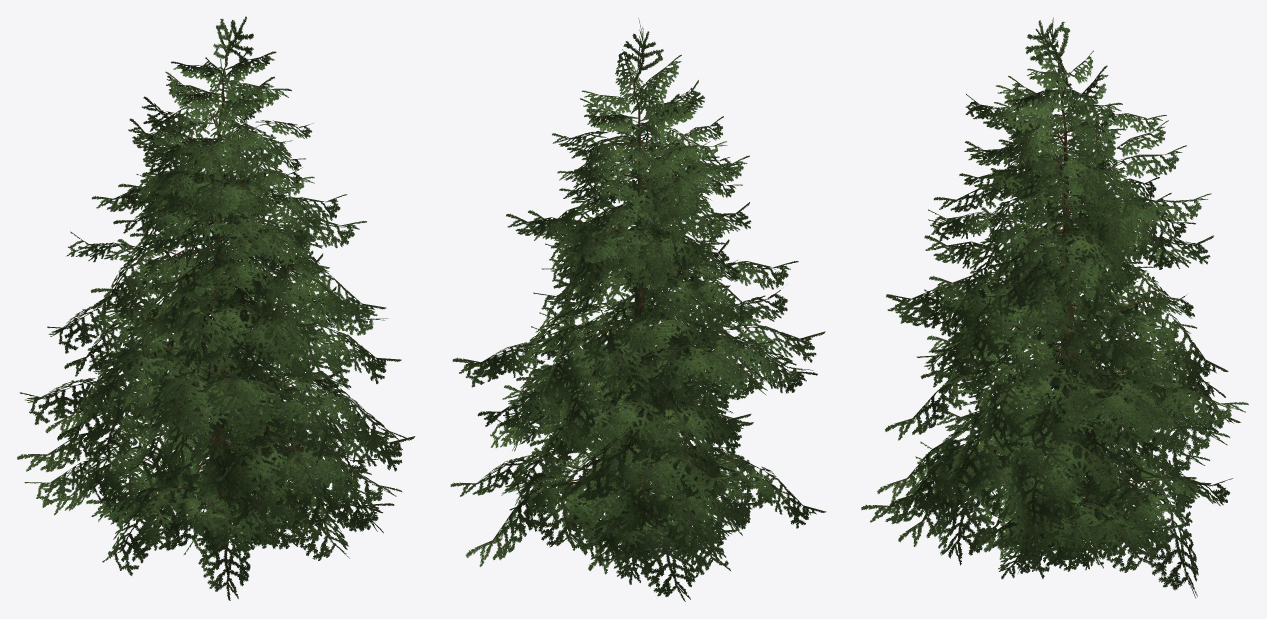
Rendered from fir_christmas_tree_2_lod0.gltf.
3 renders of one model, left to right at view 1: azimuth 30°, elevation 25°; view 2: azimuth 150°, elevation 25°; view 3: azimuth 270°, elevation 25°, orthographic. The views are drawn at different scales.
Parts seen in each view (by area): view 1: Christmas tree_2_LOD0_Brunches_Mat_0, Christmas tree_2_LOD0_Bark_Mat_0; view 2: Christmas tree_2_LOD0_Brunches_Mat_0, Christmas tree_2_LOD0_Bark_Mat_0; view 3: Christmas tree_2_LOD0_Brunches_Mat_0, Christmas tree_2_LOD0_Bark_Mat_0.
Boxes of the visible parts, x1=… form: Christmas tree_2_LOD0_Brunches_Mat_0: x1=17, y1=16, x2=415, y2=600; Christmas tree_2_LOD0_Bark_Mat_0: x1=114, y1=66, x2=318, y2=548; Christmas tree_2_LOD0_Brunches_Mat_0: x1=450, y1=18, x2=826, y2=601; Christmas tree_2_LOD0_Bark_Mat_0: x1=537, y1=81, x2=747, y2=553; Christmas tree_2_LOD0_Brunches_Mat_0: x1=861, y1=17, x2=1248, y2=598; Christmas tree_2_LOD0_Bark_Mat_0: x1=967, y1=72, x2=1167, y2=558.
Size of the model in its own units: 2.72 by 4.16 by 2.73.
Materials: 2 (2 with a texture image).
